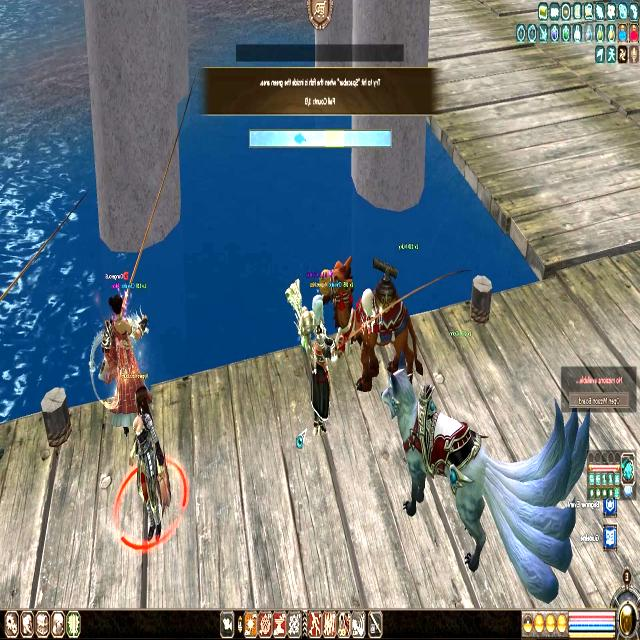fishes: (294, 132, 307, 144)
